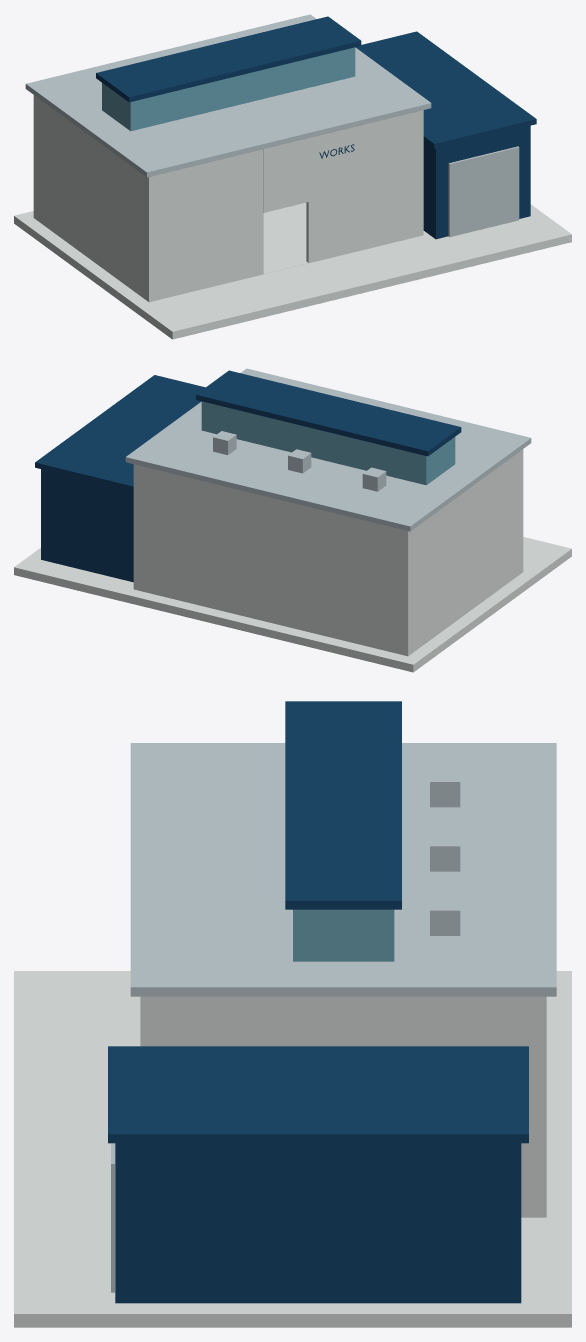
3 views of the same model, one above another, from view 1: azimuth 30°, elevation 25°; view 2: azimuth 150°, elevation 25°; view 3: azimuth 270°, elevation 25° (orthographic). The views are drawn at different scales.
Visible parts, largest first — view 1: ROOF_Hall, FOUNDATION, PRODUCTION_Hall_FrontPier.001, PRODUCTION_Hall_FrontPier, PRODUCTION_Hall_Side, SERVICE_Roof, CLERESTORY_Roof, CLERESTORY_FrontPier, LOADING_Door, PRODUCTION_Hall_EntryHeader, PRODUCTION_Hall_Floor, SERVICE_Wing_FrontPier (+5 smaller); view 2: PRODUCTION_Hall_Back, ROOF_Hall, PRODUCTION_Hall_Side, FOUNDATION, CLERESTORY_Roof, SERVICE_Wing_Back, SERVICE_Roof, CLERESTORY_Back, CLERESTORY_Side.001, VENT, PRODUCTION_Hall_Side.001, VENT.001 (+1 smaller); view 3: ROOF_Hall, SERVICE_Wing_Side.001, FOUNDATION, SERVICE_Roof, CLERESTORY_Roof, PRODUCTION_Hall_Side.001, CLERESTORY_Side, SERVICE_Wing_FrontPier.001, PRODUCTION_Hall_Back, VENT, VENT.001, VENT.002 (+2 smaller).
Part boxes in pixels (x1=…): ROOF_Hall: x1=25, y1=14, x2=431, y2=177; FOUNDATION: x1=14, y1=204, x2=571, y2=339; PRODUCTION_Hall_FrontPier.001: x1=306, y1=110, x2=423, y2=262; PRODUCTION_Hall_FrontPier: x1=146, y1=149, x2=263, y2=301; PRODUCTION_Hall_Side: x1=33, y1=95, x2=152, y2=301; SERVICE_Roof: x1=356, y1=31, x2=536, y2=148; CLERESTORY_Roof: x1=96, y1=16, x2=361, y2=102; CLERESTORY_FrontPier: x1=129, y1=47, x2=354, y2=130; LOADING_Door: x1=448, y1=146, x2=519, y2=237; PRODUCTION_Hall_EntryHeader: x1=263, y1=138, x2=308, y2=212; PRODUCTION_Hall_Floor: x1=150, y1=202, x2=411, y2=301; SERVICE_Wing_FrontPier: x1=433, y1=143, x2=466, y2=238; PRODUCTION_Hall_Back: x1=133, y1=464, x2=410, y2=656; ROOF_Hall: x1=125, y1=368, x2=531, y2=531; PRODUCTION_Hall_Side: x1=404, y1=449, x2=523, y2=655; FOUNDATION: x1=14, y1=537, x2=571, y2=672; CLERESTORY_Roof: x1=196, y1=370, x2=461, y2=456; SERVICE_Wing_Back: x1=41, y1=469, x2=133, y2=581; SERVICE_Roof: x1=35, y1=375, x2=205, y2=491; CLERESTORY_Back: x1=201, y1=401, x2=427, y2=484; CLERESTORY_Side.001: x1=424, y1=437, x2=455, y2=484; VENT: x1=362, y1=467, x2=386, y2=491; PRODUCTION_Hall_Side.001: x1=133, y1=464, x2=137, y2=589; VENT.001: x1=288, y1=449, x2=311, y2=473; ROOF_Hall: x1=130, y1=743, x2=556, y2=996; SERVICE_Wing_Side.001: x1=115, y1=1143, x2=521, y2=1303; FOUNDATION: x1=14, y1=971, x2=571, y2=1327; SERVICE_Roof: x1=108, y1=1046, x2=528, y2=1143; CLERESTORY_Roof: x1=285, y1=701, x2=401, y2=909; PRODUCTION_Hall_Side.001: x1=140, y1=996, x2=546, y2=1217; CLERESTORY_Side: x1=293, y1=909, x2=394, y2=961; SERVICE_Wing_FrontPier.001: x1=115, y1=1143, x2=123, y2=1303; PRODUCTION_Hall_Back: x1=538, y1=996, x2=546, y2=1217; VENT: x1=430, y1=769, x2=460, y2=807; VENT.001: x1=430, y1=833, x2=460, y2=871; VENT.002: x1=430, y1=898, x2=460, y2=935.
Size of the model in its own units: 16 by 6.8 by 11.
